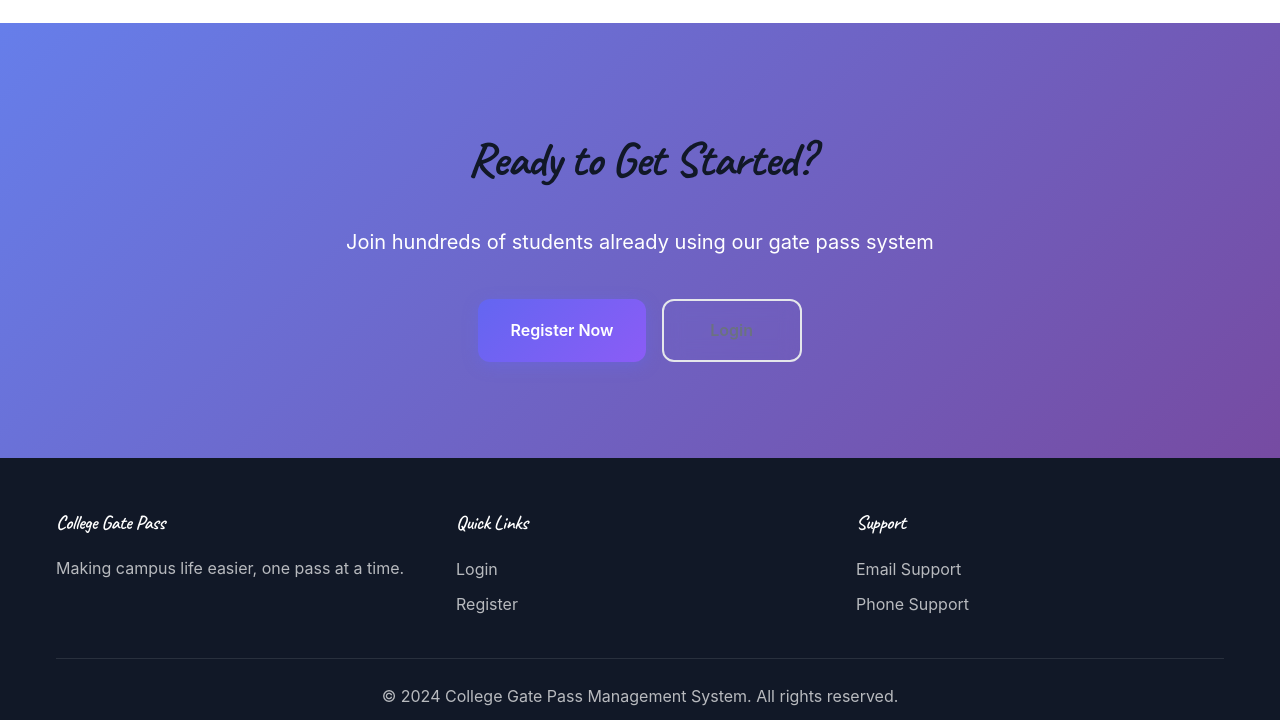
it: Gate Pass System - Basic Flow Tests › Navigation and Landing Page › should navigate to login page
The image size is (1280, 720).
(page scrolled)
Step 1. Click the link "Login" next to "Register Now" → (732, 331), box x1=662 y1=299 x2=802 y2=362
(page scrolled)
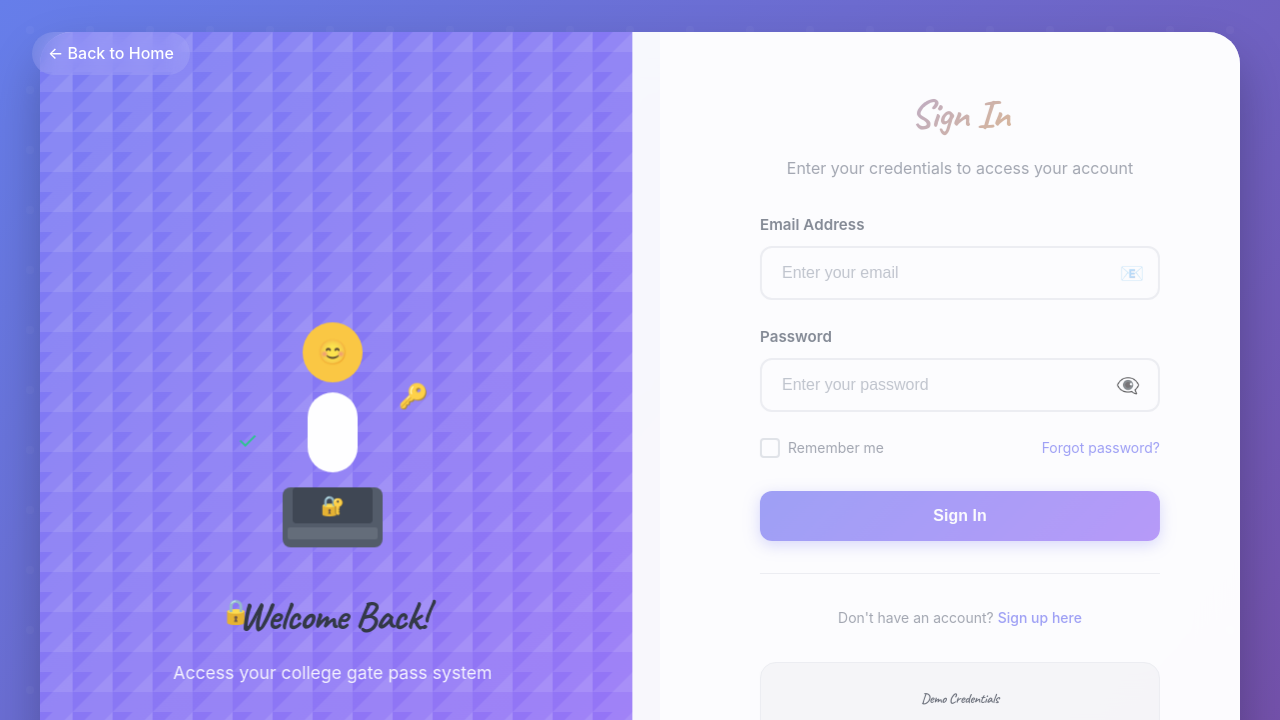
Now the heading "Sign In" is shown, box x1=782 y1=80 x2=1182 y2=148
